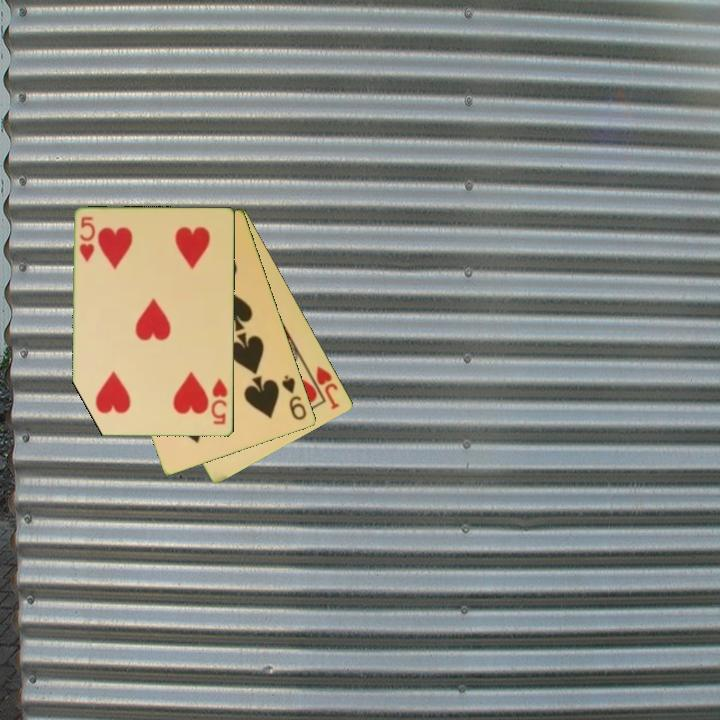5h: (208, 375, 231, 427), (76, 214, 98, 265)
9s: (279, 372, 310, 423)
Jh: (304, 362, 342, 413)
